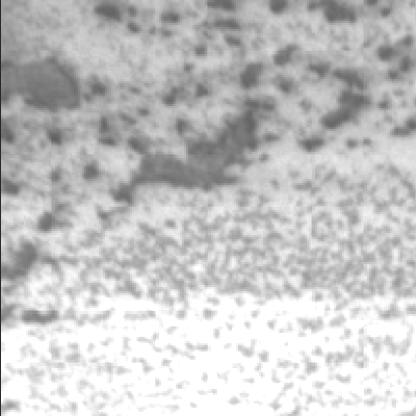patches: (121, 114, 264, 212), (4, 60, 81, 122)
pitted_surface: (40, 194, 416, 416), (83, 2, 416, 200)
